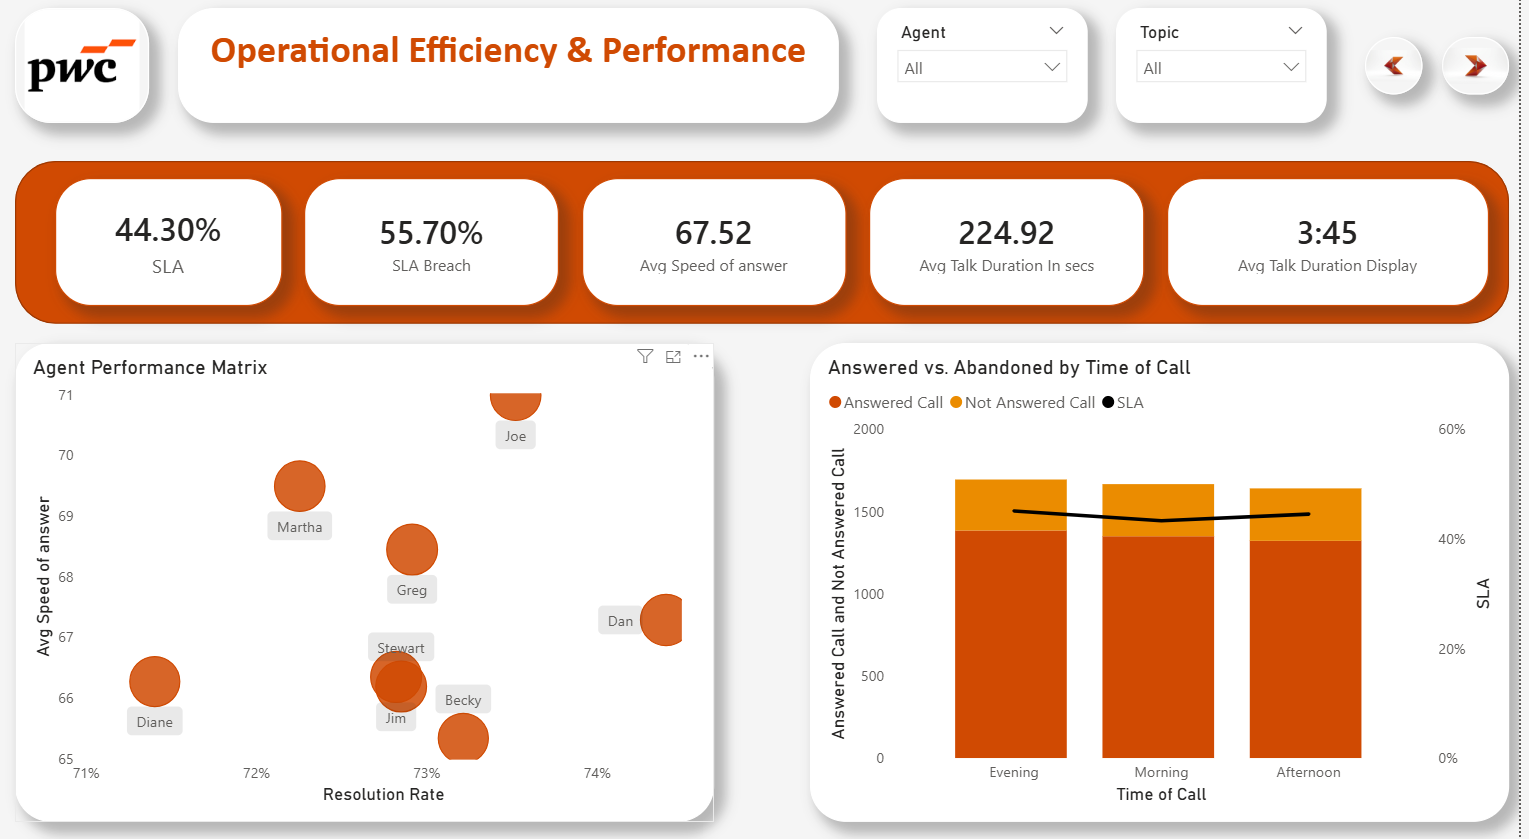

The page's visual inventory and layout, read from the dashboard file:
{"tool":"powerbi","page":{"name":"Operational Efficiency & Performance","canvas":[1280,720],"ordinal":1},"visuals":[{"type":"group","id":"g1","title":"Group 1","box":[24,144,1248,136],"z":0},{"type":"shape","box":[24,144,1248,136],"z":0,"group":"g1"},{"type":"cardVisual","fields":{"Data":["_Measures.SLA Breach"]},"box":[265.8,158.3,213.3,107.4],"z":1000,"group":"g1"},{"type":"scatterChart","title":"Agent Performance Matrix","fields":{"X":["_Measures.Resolution Rate"],"Y":["_Measures.Avg Speed of answer"],"Category":["Sheet1.Agent"],"Size":["_Measures.Avg Talk Duration In secs"]},"box":[24,296,584,400],"z":1000},{"type":"cardVisual","fields":{"Data":["_Measures.Avg Speed of answer"]},"box":[497.6,158.3,220.8,107.4],"z":2000,"group":"g1"},{"type":"lineStackedColumnComboChart","title":"Answered vs. Abandoned by Time of Call","fields":{"Category":["Sheet1.Time of Call"],"Y":["_Measures.Answered Call","_Measures.Not Answered Call"],"Y2":["_Measures.SLA"]},"box":[688,296,584,400],"z":2000},{"type":"slicer","fields":{"Values":["Sheet1.Agent"]},"box":[744,16,176,96],"z":3000},{"type":"cardVisual","fields":{"Data":["_Measures.Avg Talk Duration"]},"box":[737,158.3,230.4,107.4],"z":3000,"group":"g1"},{"type":"slicer","fields":{"Values":["Sheet1.Topic"]},"box":[944,16,176,96],"z":4000},{"type":"cardVisual","fields":{"Data":["_Measures.Avg Talk Duration Display"]},"box":[986,158.3,268.8,107.4],"z":4000,"group":"g1"},{"type":"image","box":[24,16,112,96],"z":5000},{"type":"cardVisual","fields":{"Data":["_Measures.SLA"]},"box":[57.6,158.3,189.6,107.4],"z":5000,"group":"g1"},{"type":"image","box":[1216,40,56,48],"z":6000},{"type":"textbox","box":[160,16,552,96],"z":7000},{"type":"image","box":[1152,40,48,48],"z":8000}]}

Visuals, with their boxes in screenshot pixels (x1, y1, x2, y2), scaled from the page's 1280x720 canvas onto the 1529x839 screenshot:
"Group 1" group: {"x1": 29, "y1": 168, "x2": 1519, "y2": 326}
shape: {"x1": 29, "y1": 168, "x2": 1519, "y2": 326}
cardVisual - _Measures.SLA Breach: {"x1": 318, "y1": 184, "x2": 572, "y2": 310}
"Agent Performance Matrix" scatterChart: {"x1": 29, "y1": 345, "x2": 726, "y2": 811}
cardVisual - _Measures.Avg Speed of answer: {"x1": 594, "y1": 184, "x2": 858, "y2": 310}
"Answered vs. Abandoned by Time of Call" lineStackedColumnComboChart: {"x1": 822, "y1": 345, "x2": 1519, "y2": 811}
slicer - Sheet1.Agent: {"x1": 889, "y1": 19, "x2": 1099, "y2": 131}
cardVisual - _Measures.Avg Talk Duration: {"x1": 880, "y1": 184, "x2": 1156, "y2": 310}
slicer - Sheet1.Topic: {"x1": 1128, "y1": 19, "x2": 1338, "y2": 131}
cardVisual - _Measures.Avg Talk Duration Display: {"x1": 1178, "y1": 184, "x2": 1499, "y2": 310}
image: {"x1": 29, "y1": 19, "x2": 162, "y2": 131}
cardVisual - _Measures.SLA: {"x1": 69, "y1": 184, "x2": 295, "y2": 310}
image: {"x1": 1453, "y1": 47, "x2": 1519, "y2": 103}
textbox: {"x1": 191, "y1": 19, "x2": 851, "y2": 131}
image: {"x1": 1376, "y1": 47, "x2": 1433, "y2": 103}
